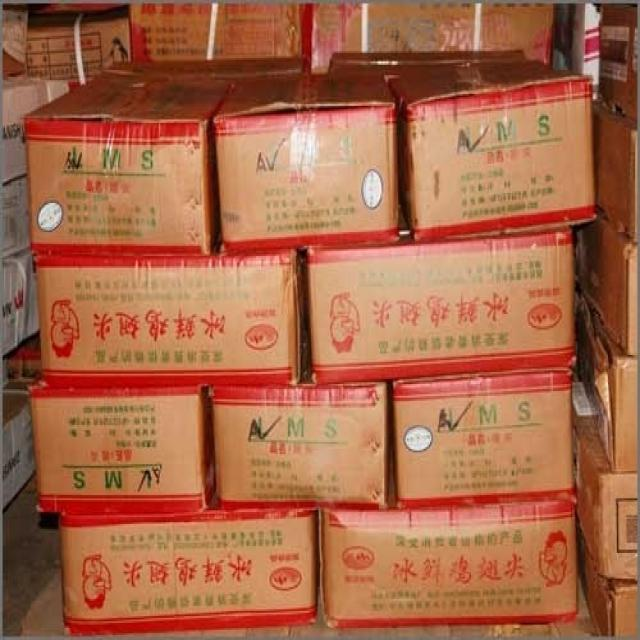Carton: (24, 101, 573, 381), (28, 382, 384, 630), (317, 500, 573, 625), (410, 75, 595, 237), (392, 374, 568, 503)
